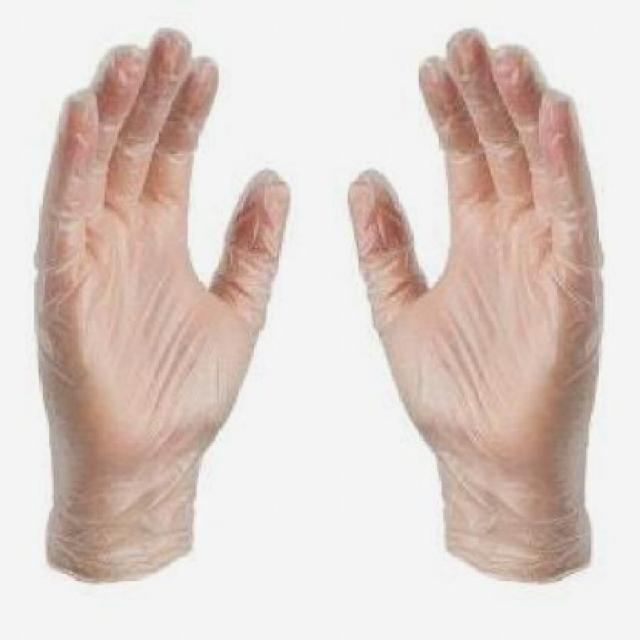glove: (15, 28, 292, 602), (349, 26, 606, 600)
